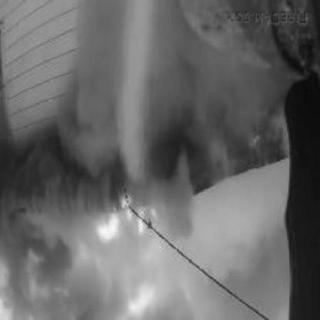Smoke: (5, 247, 173, 316)
